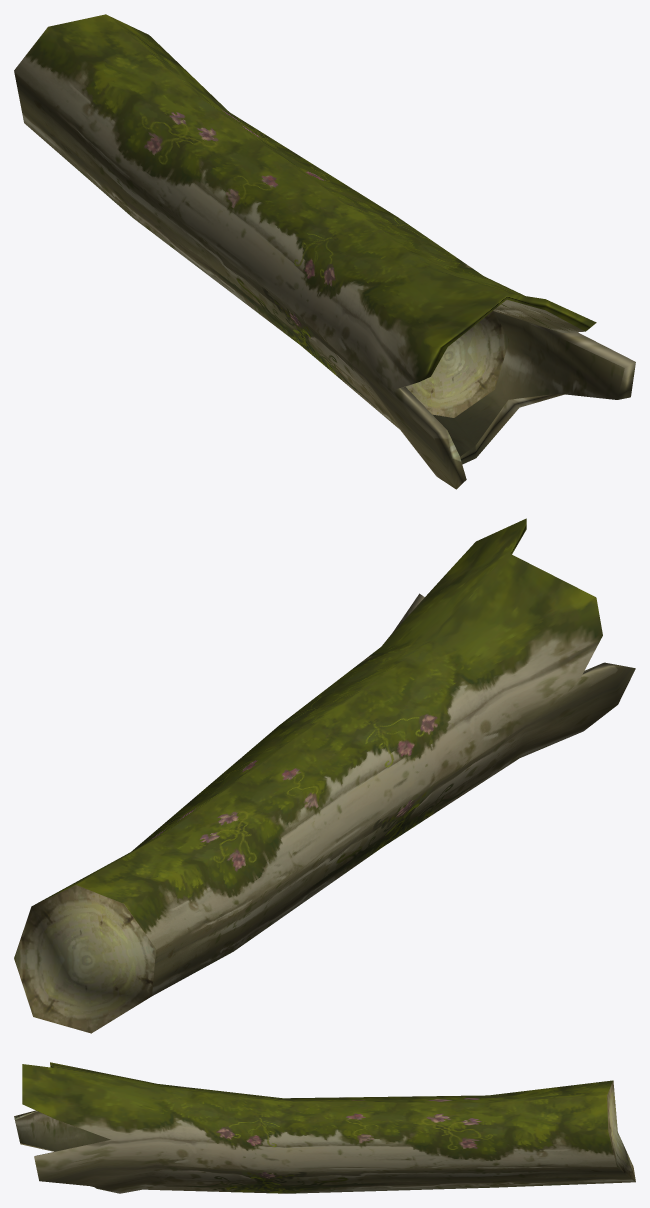
Rendered from Wetlands_Log_02.fbx.
3 renders of one model, top to bottom at view 1: azimuth 30°, elevation 25°; view 2: azimuth 150°, elevation 25°; view 3: azimuth 270°, elevation 25°, orthographic. The views are drawn at different scales.
Visible parts, largest first — view 1: Wetlands_Log_02; view 2: Wetlands_Log_02; view 3: Wetlands_Log_02.
Part boxes in pixels (x1,y1,x2,y2): Wetlands_Log_02: (14, 14, 635, 489); Wetlands_Log_02: (14, 518, 635, 1033); Wetlands_Log_02: (14, 1062, 635, 1193).
Bounding box in the file's own units: 2.95 × 2.74 × 11.95.
1 material, 1 textured.
